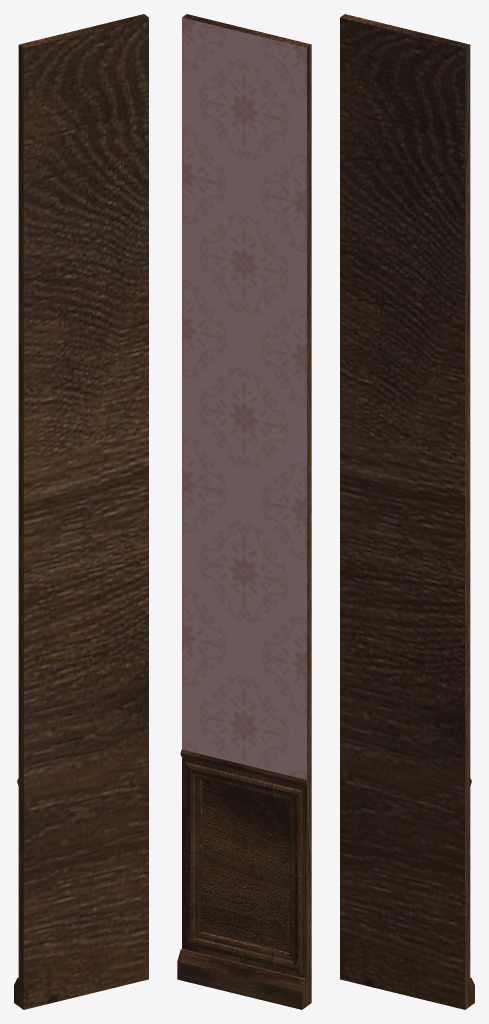
Rendered from Mur_Fille.fbx.
3 views of the same model, side by side, from view 1: azimuth 30°, elevation 25°; view 2: azimuth 150°, elevation 25°; view 3: azimuth 330°, elevation 25° (orthographic).
Visible parts, largest first — view 1: Cube; view 2: Cube; view 3: Cube.
Boxes of the visible parts, box(x1,y1,x2,y2) form: Cube: box(14, 14, 148, 1009); Cube: box(177, 14, 311, 1009); Cube: box(340, 14, 474, 1009).
Size of the model in its own units: 150 by 1100 by 20.
